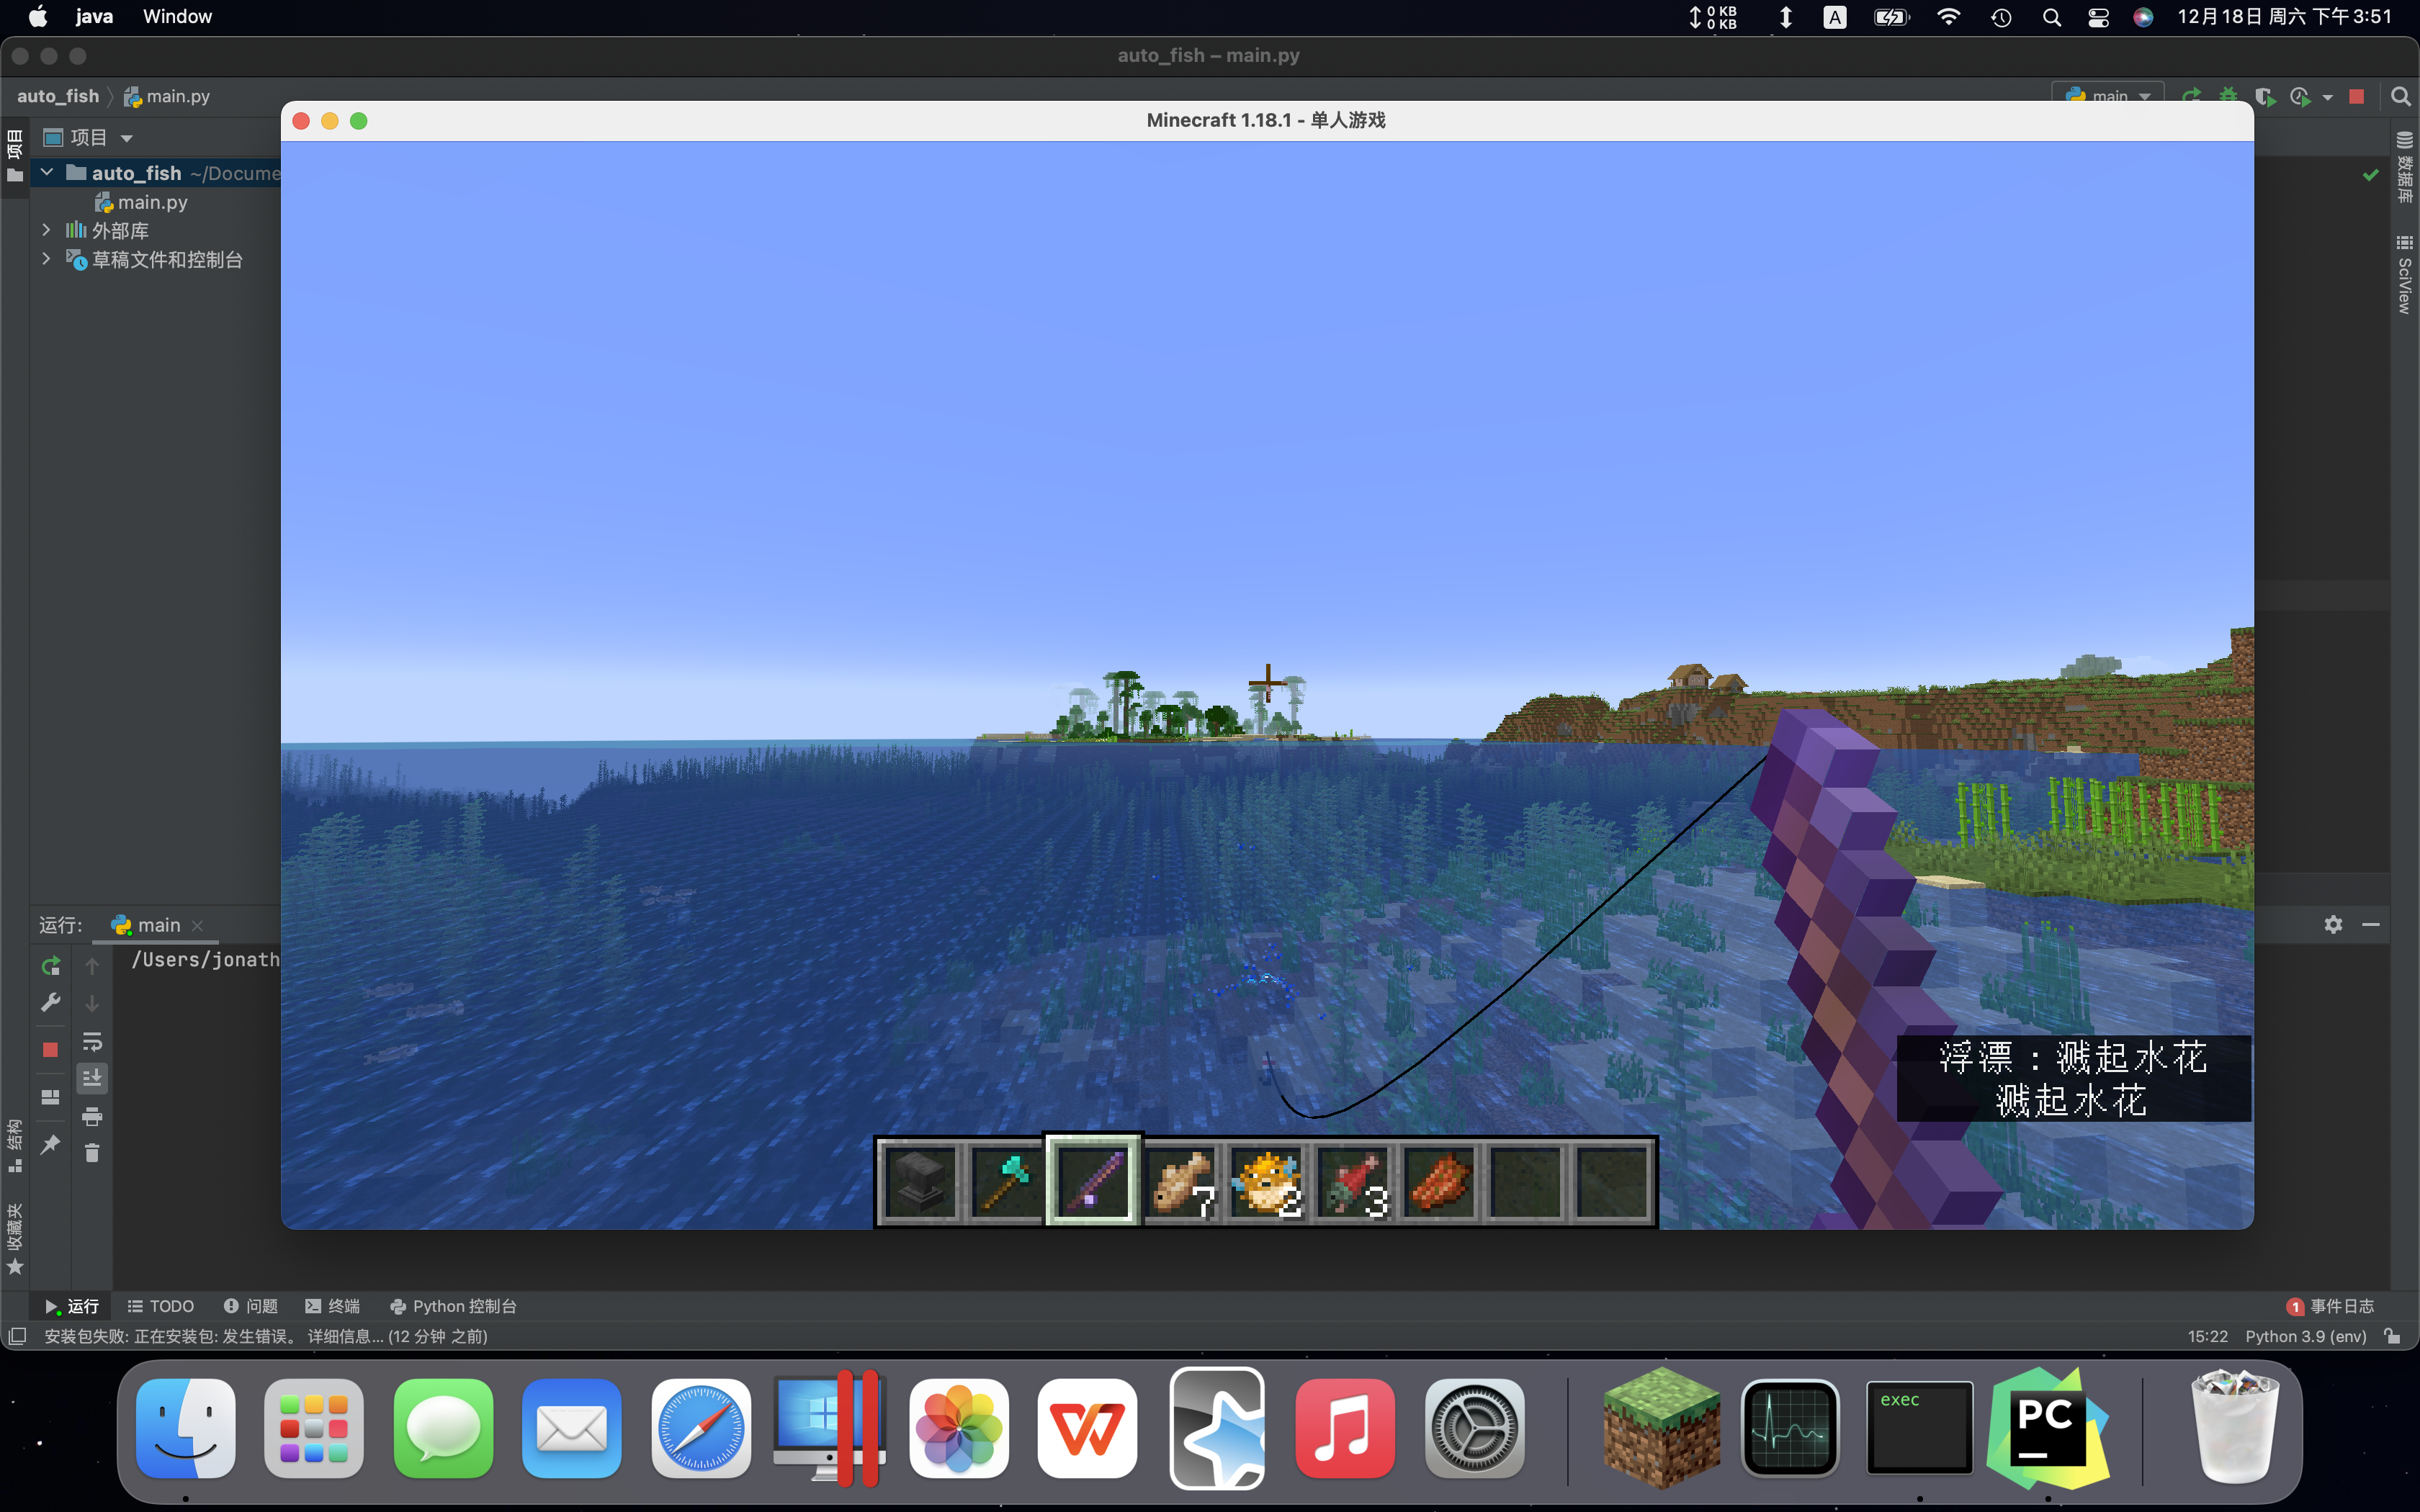inf: (1901, 1038, 2253, 1118)
